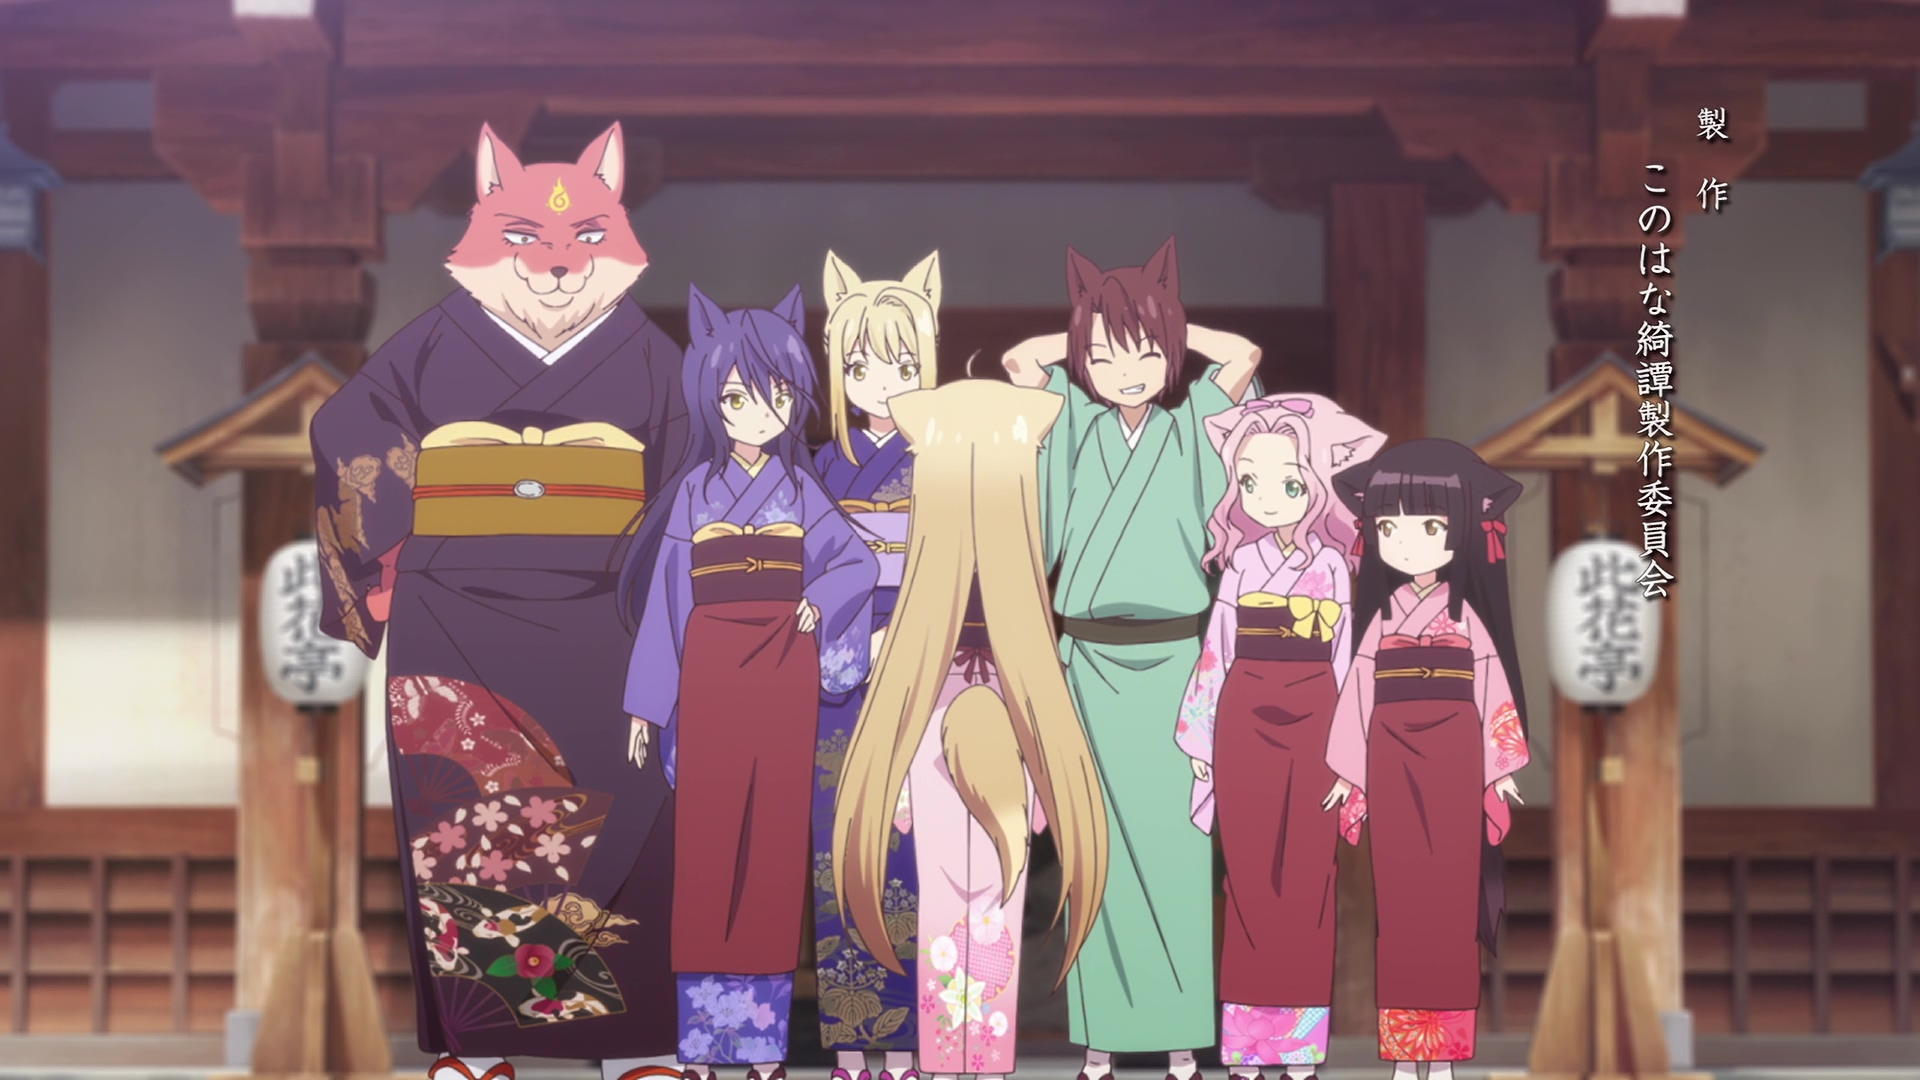枣: (1004, 235, 1263, 1080)
柚: (833, 348, 1110, 1080)
桐: (808, 247, 942, 1080)
椿: (311, 116, 684, 1080)
樱: (1323, 438, 1532, 1080)
皋: (608, 282, 880, 1080)
莲: (1174, 389, 1389, 1080)
